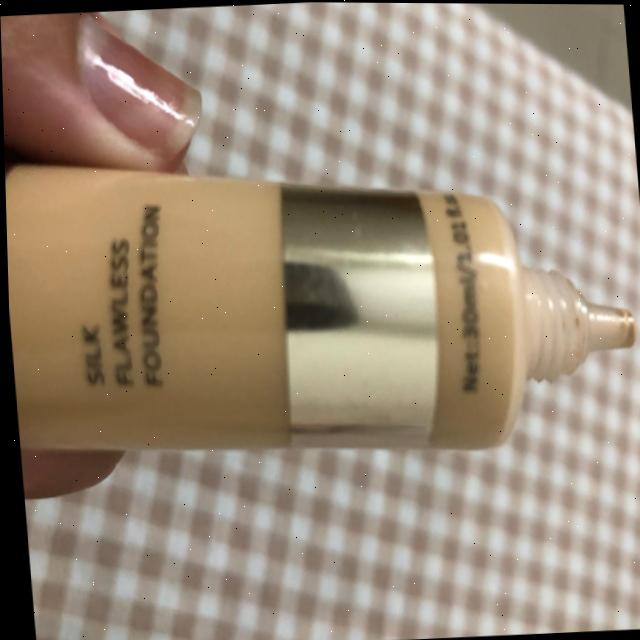foundation: (3, 111, 640, 496)
